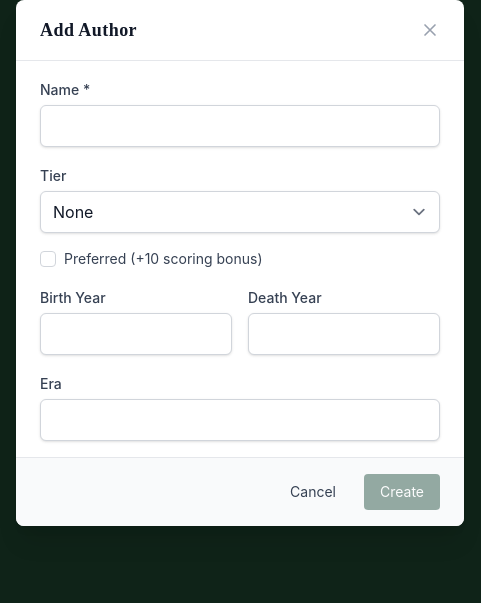
Scenario: EntityFormModal › form validation (#664) › author year validation › shows error when death_year exceeds 2100
This screenshot has width=481, height=603.
Type "Test Author" into the field labelled "Name *" at (240,126), box [40,105,440,147]
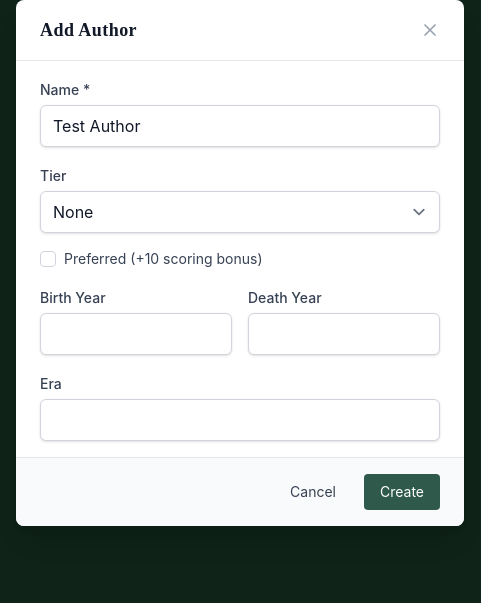
Type "2101" into the number field labelled "Death Year" at (344,334), box [248,313,440,355]
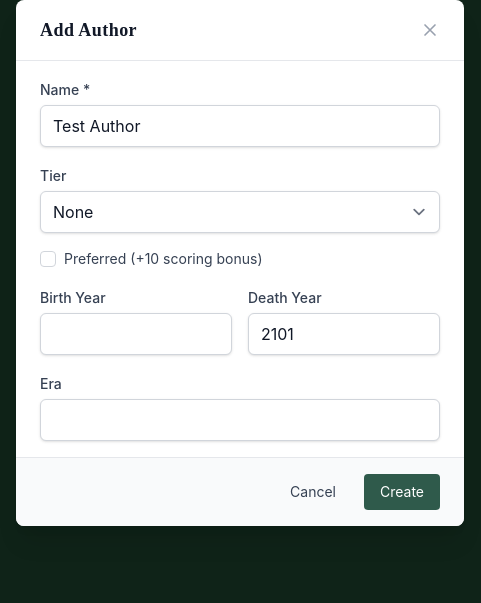
Click the button "Create" at (402,492), box [364,474,440,510]
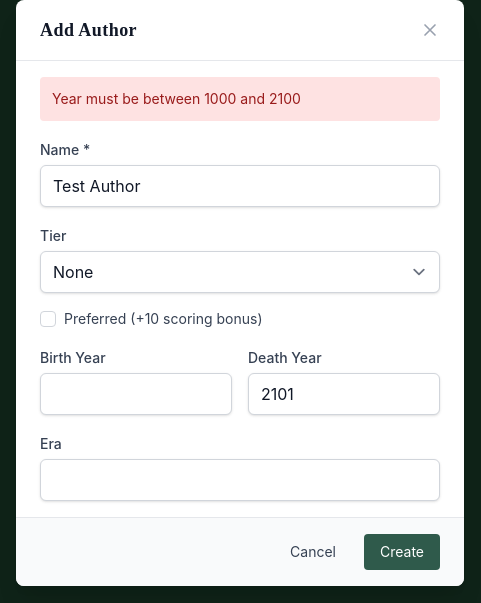
Check: the text "Year must be between 1000 and 2100" is shown, box [40,77,440,121]
Check: the text with test id "validation-error" reads "Year must be between 1000 and 2100", box [52,90,301,107]
